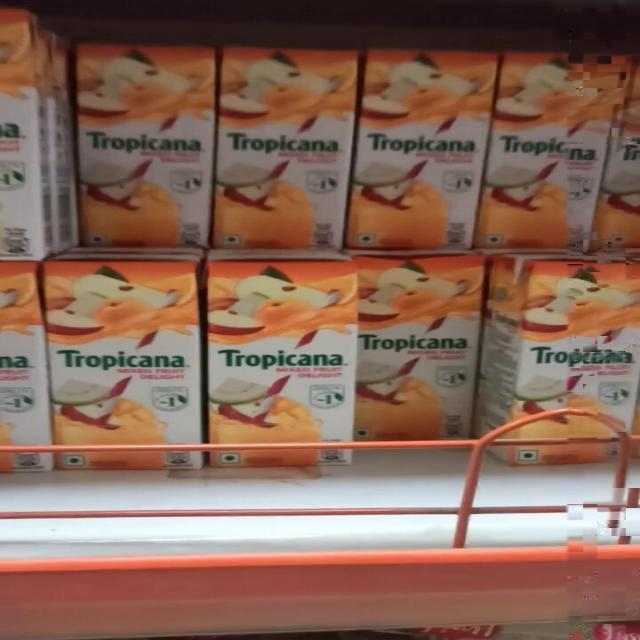Tropicana: (45, 257, 203, 464), (216, 39, 368, 239), (69, 36, 211, 250), (211, 255, 355, 462), (361, 42, 502, 242), (365, 250, 492, 460), (501, 48, 628, 239)
